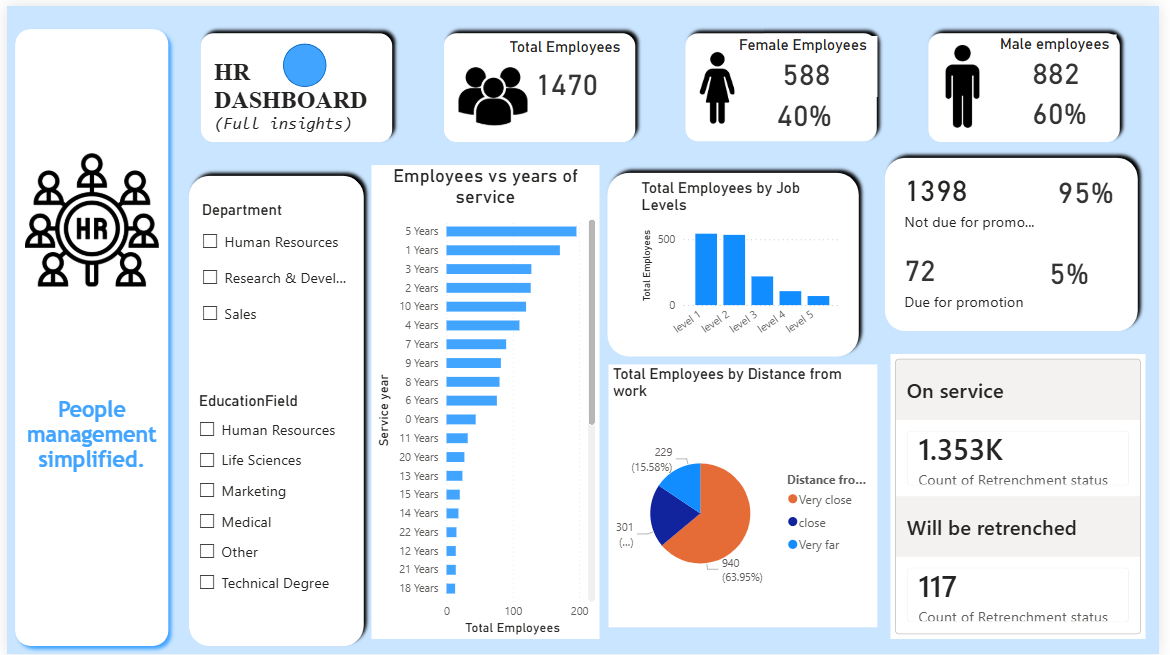

This screenshot's page, from the dashboard's own definition file:
{"tool":"powerbi","page":{"name":"Page 1","canvas":[1280,720],"ordinal":0},"visuals":[{"type":"shape","box":[966.7,160,298.3,210],"z":0},{"type":"shape","box":[0,16.7,188.3,703.3],"z":1000},{"type":"shape","box":[206.7,21.2,230,138.3],"z":2000},{"type":"shape","box":[476.1,21.2,230,138.3],"z":3000},{"type":"shape","box":[745.6,21.2,230,137.5],"z":4000},{"type":"shape","box":[1015,21.2,230,138.3],"z":5000},{"type":"shape","box":[193.3,180,211.7,540],"z":6000},{"type":"shape","box":[658.3,176.7,296.7,221.7],"z":7000},{"type":"shape","box":[668,428,226,262],"z":8000},{"type":"textbox","box":[225,51.7,198.3,96.7],"z":9000},{"type":"shape","box":[306.7,41.7,48.3,48.3],"z":10000},{"type":"image","box":[738.3,35,101.7,111.7],"z":11000},{"type":"advanceCardE03760C5AB684758B56AA29F9E6C257B","fields":{"mainMeasure":["All measures.% male"]},"box":[1106.2,95,125,48.8],"z":12000},{"type":"advanceCardE03760C5AB684758B56AA29F9E6C257B","title":"Female Employees","fields":{"mainMeasure":["All measures.female"]},"box":[808.3,33.3,158.3,66.7],"z":13000},{"type":"advanceCardE03760C5AB684758B56AA29F9E6C257B","title":"Male employees","fields":{"mainMeasure":["All measures.male"]},"box":[1097.5,31.2,133.8,68.8],"z":14000},{"type":"image","box":[1015,43.3,93.3,91.7],"z":15000},{"type":"advanceCardE03760C5AB684758B56AA29F9E6C257B","fields":{"mainMeasure":["All measures.% female"]},"box":[840,95,91.7,53.3],"z":16000},{"type":"advanceCardE03760C5AB684758B56AA29F9E6C257B","title":"Total Employees","fields":{"mainMeasure":["All measures.Total Emp"]},"box":[553.3,35,136.7,86.7],"z":17000},{"type":"image","box":[501.7,60,76.7,80],"z":18000},{"type":"advanceCardE03760C5AB684758B56AA29F9E6C257B","fields":{"mainMeasure":["All measures.% due for promotion"]},"box":[1130,270,101.7,56.7],"z":20000},{"type":"advanceCardE03760C5AB684758B56AA29F9E6C257B","fields":{"mainMeasure":["All measures.% not due"]},"box":[1156.7,176.7,83.3,61.7],"z":22000},{"type":"barChart","title":"Employees vs years of service","fields":{"Category":["HR Analytics Data.Service year"],"Y":["All measures.Total Emp"]},"box":[405,176.7,253.3,526.7],"z":23000},{"type":"columnChart","fields":{"Category":["HR Analytics Data.Job Levels"],"Y":["All measures.Total Emp"]},"box":[700,191.7,231.7,193.3],"z":24000},{"type":"cardVisual","fields":{"Data":["CountNonNull(HR Analytics Data.Retrenchment status)"],"Rows":["HR Analytics Data.Retrenchment status"]},"box":[981.7,386.7,283.3,316.7],"z":25000},{"type":"pieChart","fields":{"Category":["HR Analytics Data.Distance from work"],"Y":["All measures.Total Emp"]},"box":[668.3,398.3,298.3,291.7],"z":26000},{"type":"listSlicer","fields":{"Values":["HR Analytics Data.EducationField"]},"box":[208.3,428.3,178.3,236.7],"z":27000},{"type":"textbox","box":[10,428.3,168.3,123.3],"z":28000},{"type":"image","box":[20,148.3,148.3,178.3],"z":29000},{"type":"advanceCardE03760C5AB684758B56AA29F9E6C257B","fields":{"mainMeasure":["All measures.Not due for promotion"],"tooltipMeasures":["All measures.Due for promotion"]},"box":[981.7,180,183.3,73.3],"z":30000},{"type":"advanceCardE03760C5AB684758B56AA29F9E6C257B","fields":{"mainMeasure":["All measures.Due for promotion"]},"box":[981.7,265,175,80],"z":30001},{"type":"listSlicer","fields":{"Values":["HR Analytics Data.Department"]},"box":[211.7,216.7,173.3,151.7],"z":30002}]}

Visuals, with their boxes in screenshot pixels (x1, y1, x2, y2), scaled from the page's 1280x720 canvas onto the 1170x655 screenshot:
shape: 884/146/1156/337
shape: 0/15/172/654
shape: 189/19/399/145
shape: 435/19/645/145
shape: 682/19/892/144
shape: 928/19/1138/145
shape: 177/164/370/654
shape: 602/161/873/362
shape: 611/389/817/628
textbox: 206/47/387/135
shape: 280/38/324/82
image: 675/32/768/133
advanceCardE03760C5AB684758B56AA29F9E6C257B - All measures.% male: 1011/86/1125/131
"Female Employees" advanceCardE03760C5AB684758B56AA29F9E6C257B: 739/30/884/91
"Male employees" advanceCardE03760C5AB684758B56AA29F9E6C257B: 1003/28/1125/91
image: 928/39/1013/123
advanceCardE03760C5AB684758B56AA29F9E6C257B - All measures.% female: 768/86/852/135
"Total Employees" advanceCardE03760C5AB684758B56AA29F9E6C257B: 506/32/631/111
image: 459/55/529/127
advanceCardE03760C5AB684758B56AA29F9E6C257B - All measures.% due for promotion: 1033/246/1126/297
advanceCardE03760C5AB684758B56AA29F9E6C257B - All measures.% not due: 1057/161/1133/217
"Employees vs years of service" barChart: 370/161/602/640
columnChart - HR Analytics Data.Job Levels x All measures.Total Emp: 640/174/852/350
cardVisual - CountNonNull(HR Analytics Data.Retrenchment status) x HR Analytics Data.Retrenchment status: 897/352/1156/640
pieChart - HR Analytics Data.Distance from work x All measures.Total Emp: 611/362/884/628
listSlicer - HR Analytics Data.EducationField: 190/390/353/605
textbox: 9/390/163/502
image: 18/135/154/297
advanceCardE03760C5AB684758B56AA29F9E6C257B - All measures.Not due for promotion x All measures.Due for promotion: 897/164/1065/230
advanceCardE03760C5AB684758B56AA29F9E6C257B - All measures.Due for promotion: 897/241/1057/314
listSlicer - HR Analytics Data.Department: 194/197/352/335
